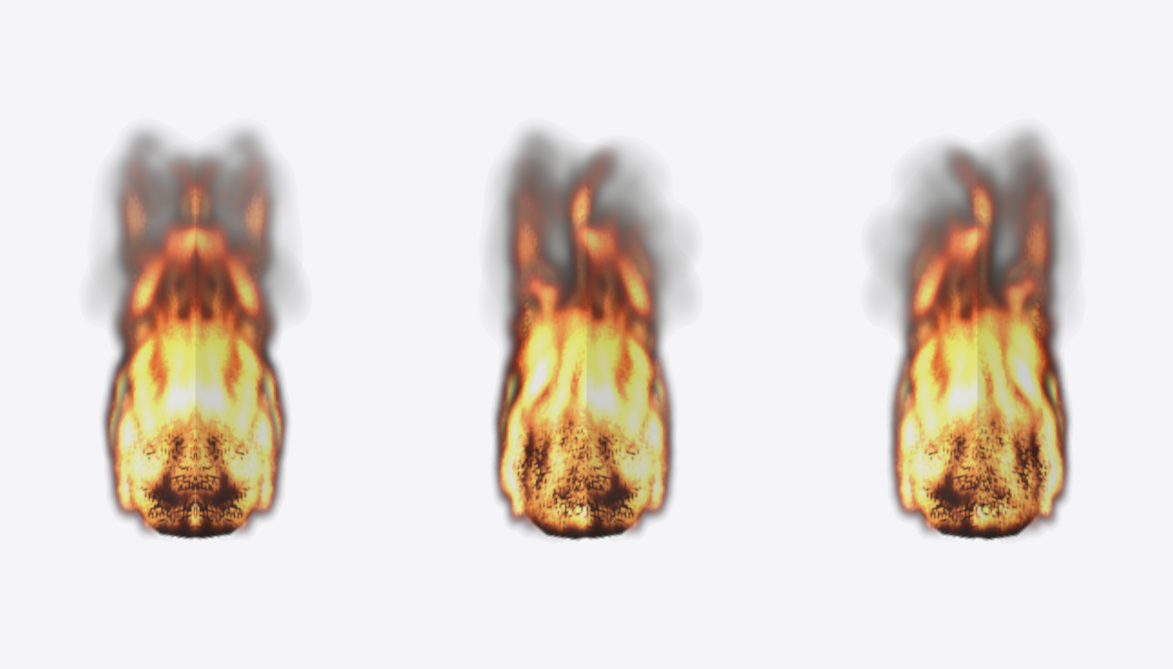
Rendered from Fire_Flame.glb.
3 renders of one model, left to right at view 1: azimuth 30°, elevation 25°; view 2: azimuth 150°, elevation 25°; view 3: azimuth 270°, elevation 25°, orthographic.
Visible parts, largest first — view 1: Fire_Flame; view 2: Fire_Flame; view 3: Fire_Flame.
Boxes of the visible parts, box(x1,y1,x2,y2) form: Fire_Flame: box(89, 127, 301, 539); Fire_Flame: box(487, 127, 692, 540); Fire_Flame: box(871, 127, 1076, 540).
Bounding box in the file's own units: 0.9 × 1.1 × 0.7794.
Materials: 1 (1 with a texture image).
